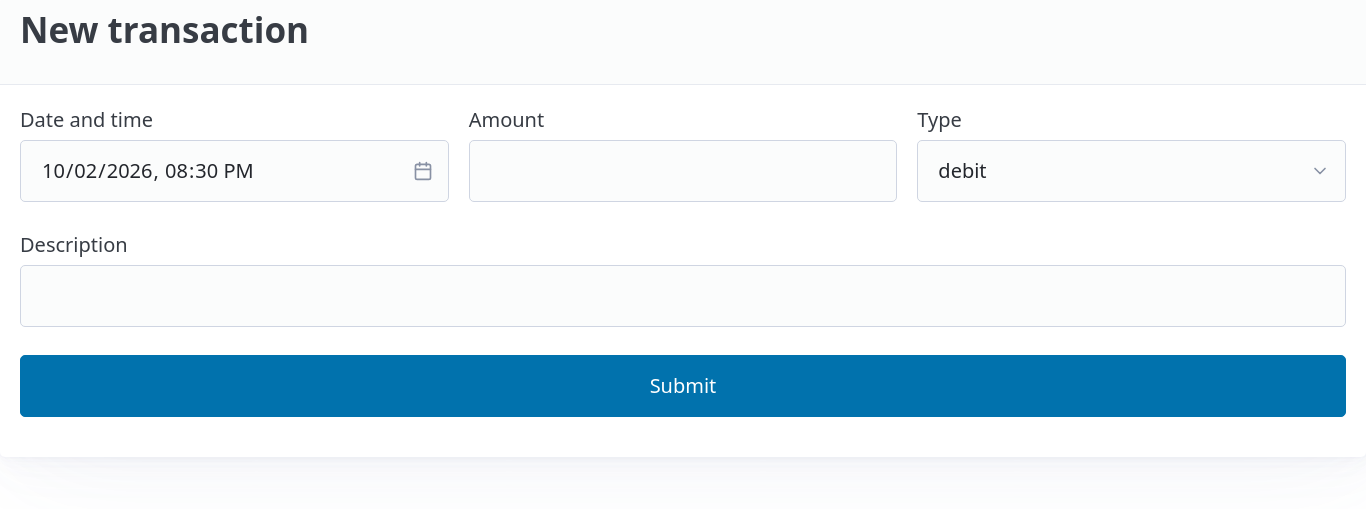
Test case: TransactionForm › rejects a date more than a year ago without submitting
Replace the text in the field labelled "Date and time" with "2000-01-01T00:00". click: (234, 171)
box: [20,140,449,202]
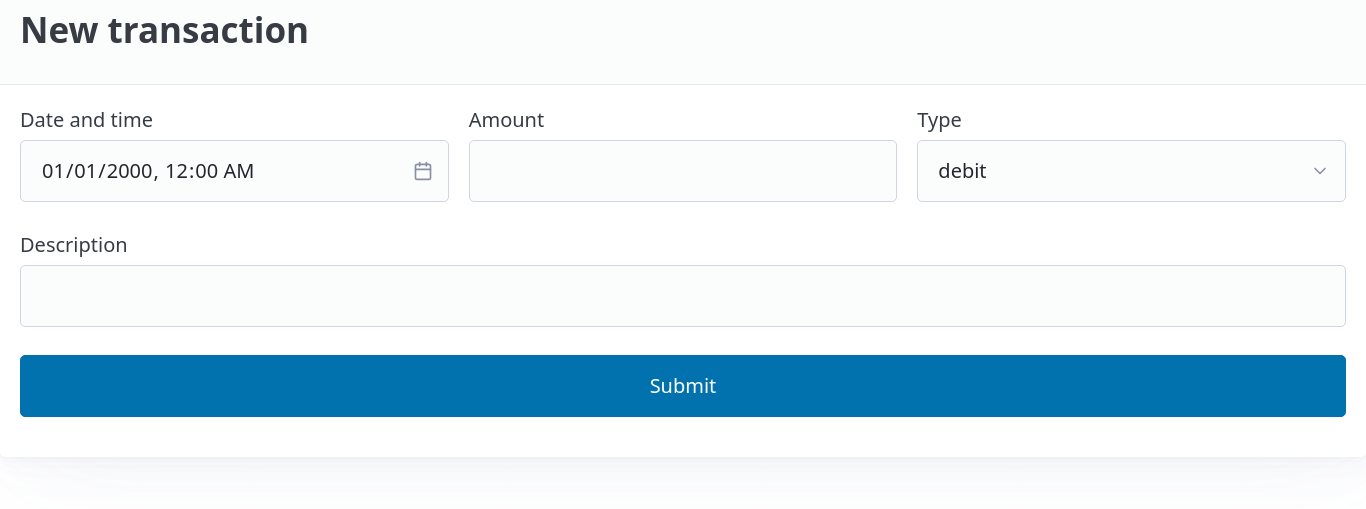
Type "10" into the number field labelled "Amount". click: (683, 171)
box: [469,140,897,202]
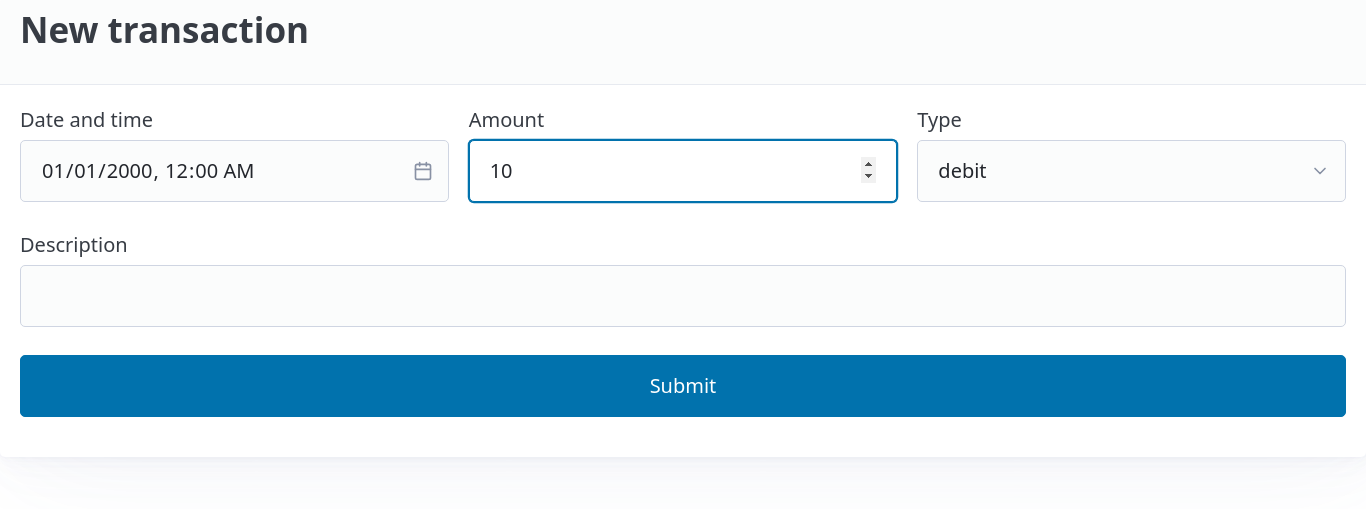
Type "Dated" into the field labelled "Description". click: (683, 296)
box: [20,265,1346,327]
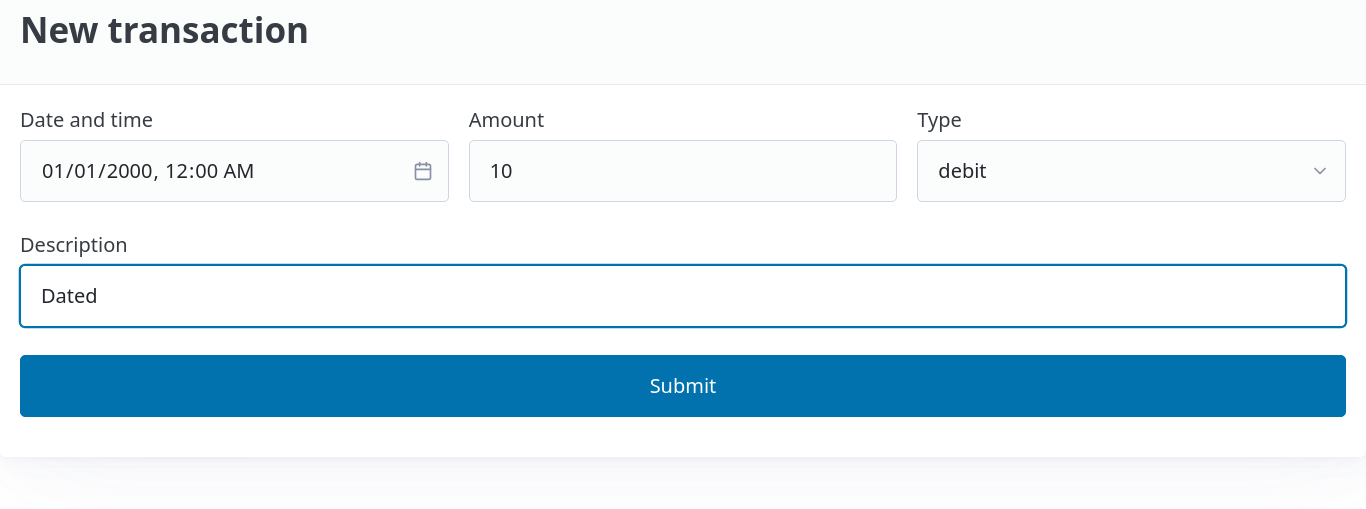
Click the button "Submit". click: (683, 386)
box: [20,355,1346,417]
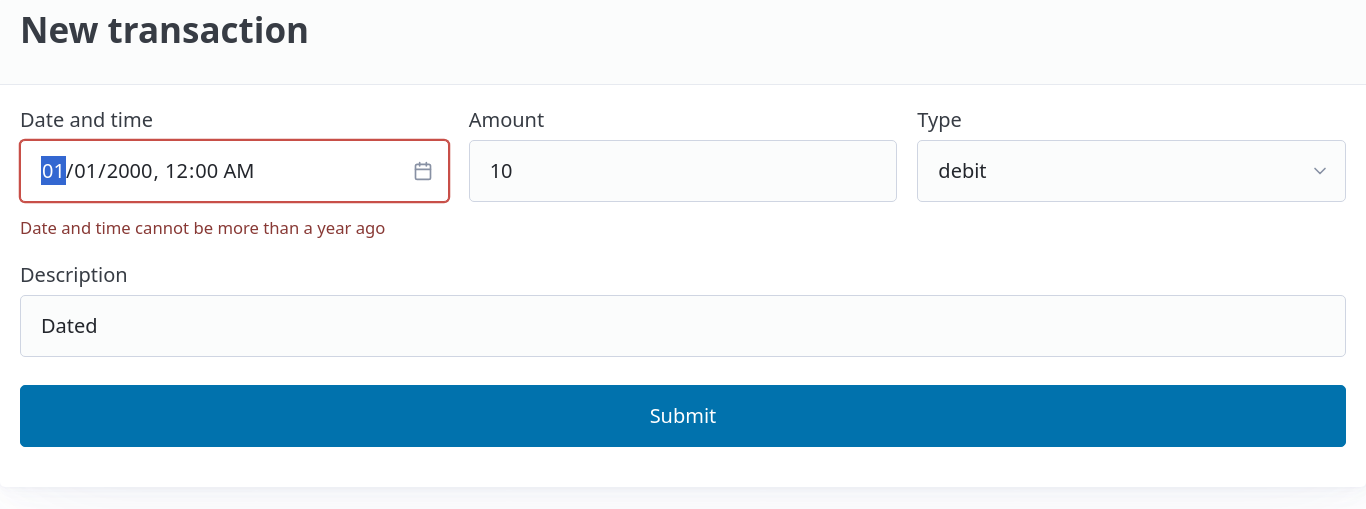
Expected: the text "Date and time cannot be more than a year ago" is shown, [20,215,449,240]
